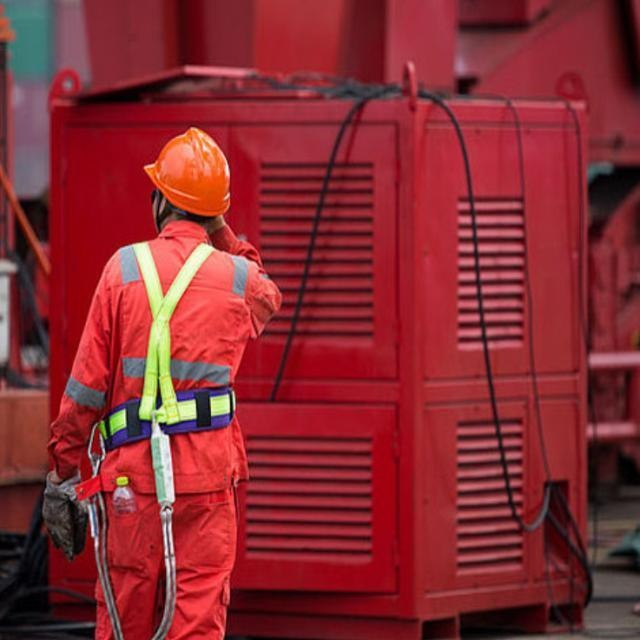Arnes_seguridad: (96, 234, 246, 456)
